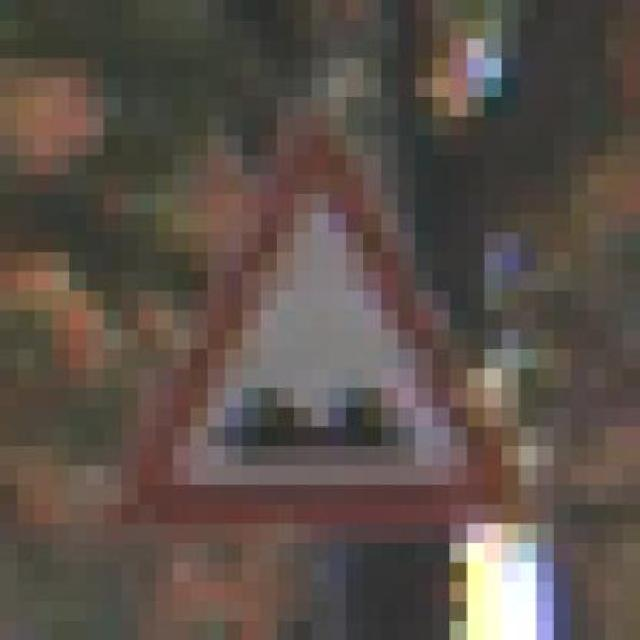Uneven Road: (104, 116, 519, 544)
